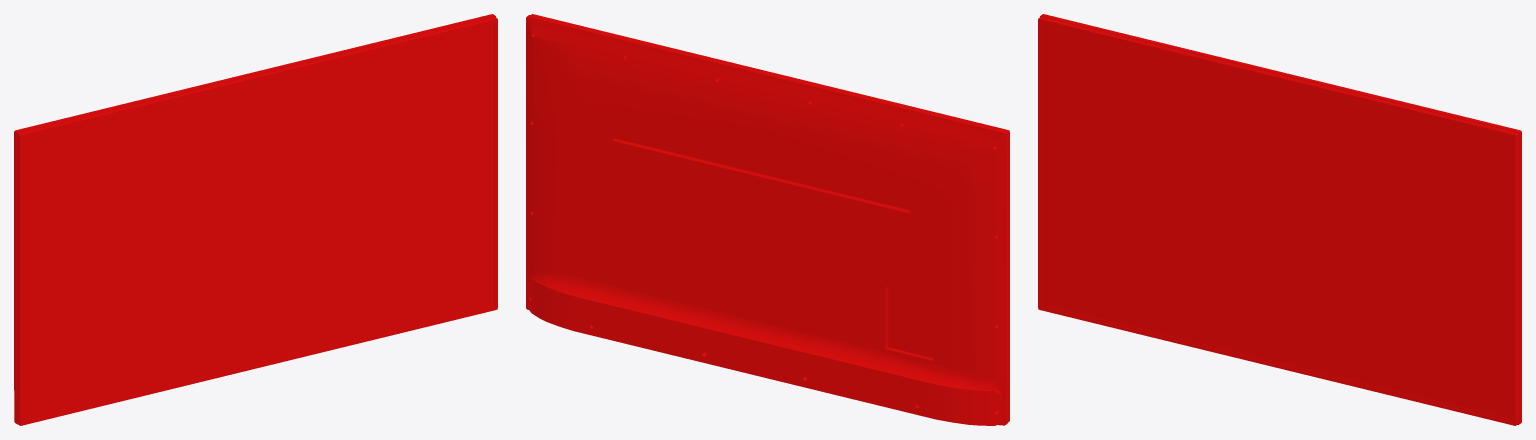
3 renders of one model, left to right at view 1: azimuth 30°, elevation 25°; view 2: azimuth 150°, elevation 25°; view 3: azimuth 330°, elevation 25°, orthographic.
Parts seen in each view (by area): view 1: SM_TV_01_LOD0; view 2: SM_TV_01_LOD0; view 3: SM_TV_01_LOD0.
Part boxes in pixels (x1,y1,x2,y2): SM_TV_01_LOD0: (14,14,497,425); SM_TV_01_LOD0: (526,14,1009,425); SM_TV_01_LOD0: (1038,14,1521,425).
Size of what is drawn, in the model's own units: 1.1 by 0.6436 by 0.0648.
